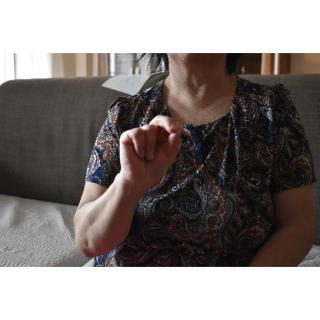QAAF: (116, 109, 186, 187)
